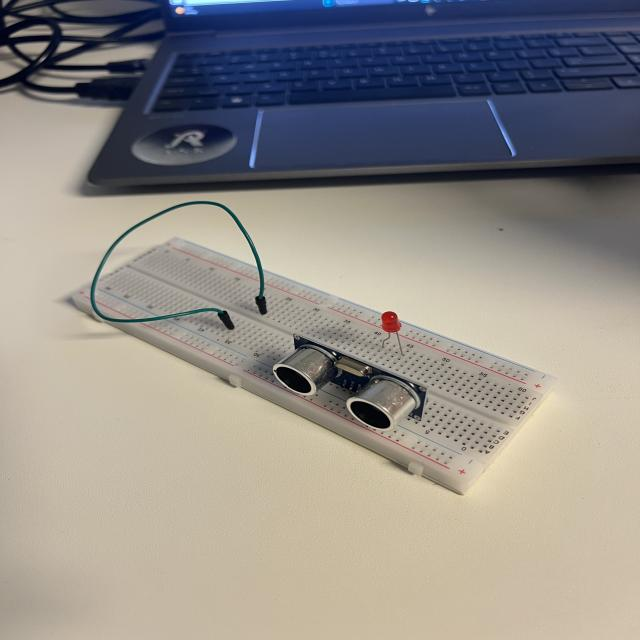BreadBoard: (62, 236, 360, 374), (410, 348, 543, 466)
REDLed: (367, 306, 423, 354)
UltrasoneSensor: (241, 333, 441, 442)
